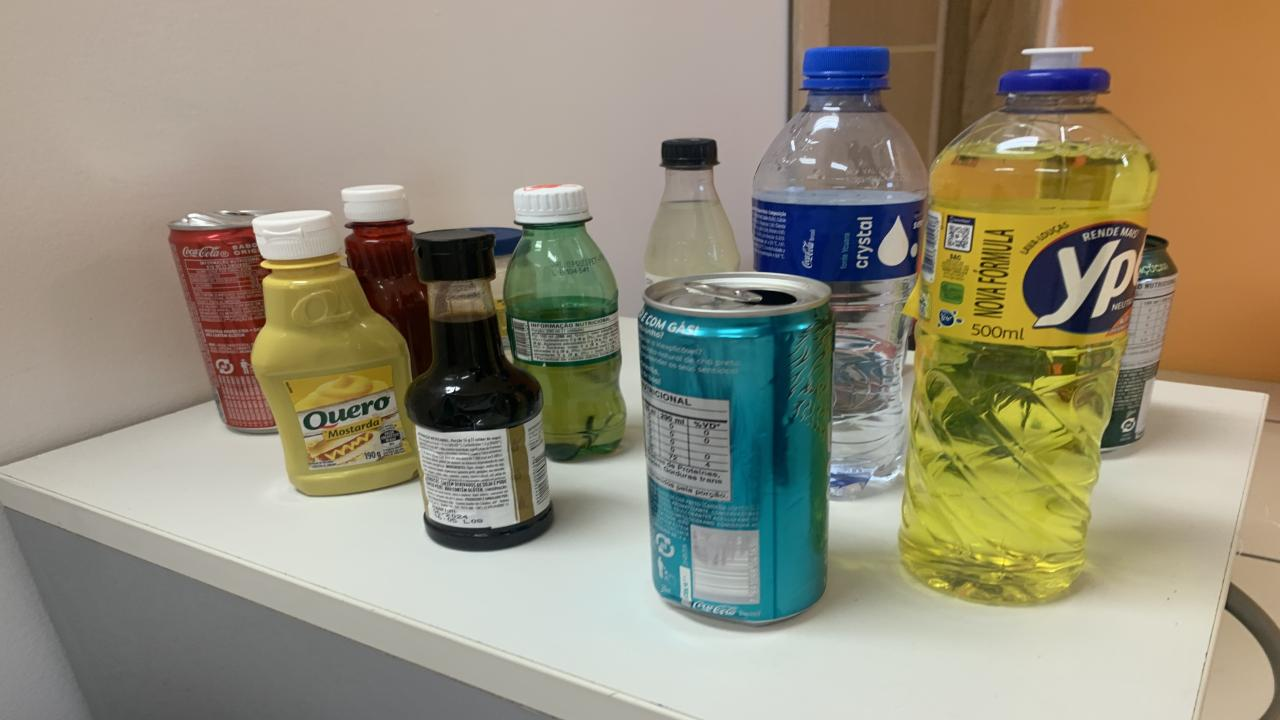Coke-Drinks: (170, 212, 275, 431)
Detergent-Cleanup_Items: (900, 47, 1158, 604)
English_Sauce-Pantry_Items: (408, 231, 552, 551)
Guarana-Drinks: (502, 184, 625, 461)
Guarana_Can-Drinks: (1102, 236, 1178, 452)
Ketchup-Pantry_Items: (342, 184, 432, 377)
Mayonnaise-Pantry_Items: (472, 227, 522, 358)
Mustard-Pantry_Items: (250, 210, 418, 495)
Soda-Drinks: (645, 137, 740, 285)
Tea-Drinks: (638, 272, 835, 622)
Water_Bottle-Drinks: (752, 47, 928, 499)
